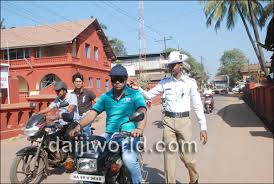helmet: (107, 62, 130, 91), (53, 82, 68, 98)
